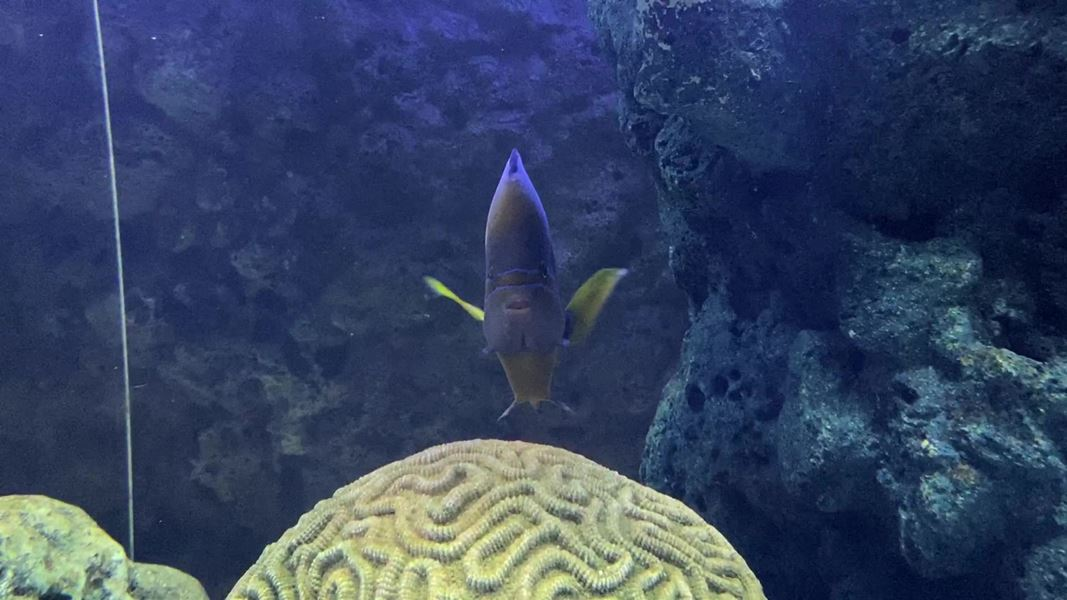Blue ring angelfish: (397, 131, 659, 434)
